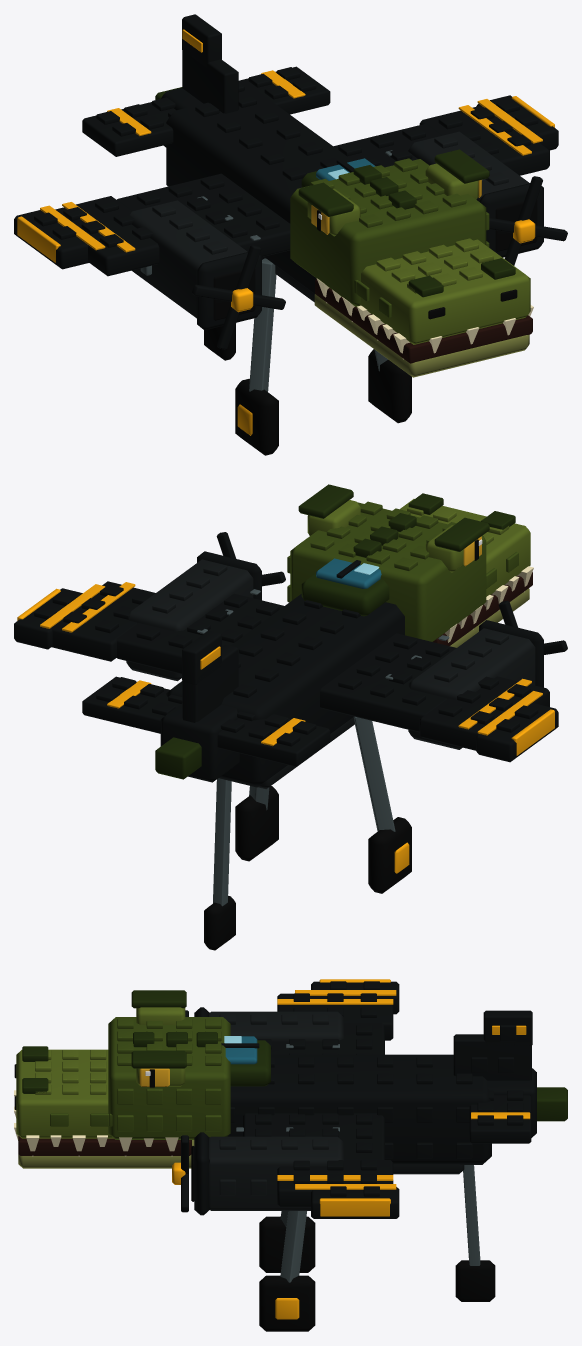
The model's file is Crocodilo.glb.
The picture shows the model from 3 angles, top to bottom: view 1: azimuth 30°, elevation 25°; view 2: azimuth 150°, elevation 25°; view 3: azimuth 270°, elevation 25°; orthographic projection. The views are drawn at different scales.
Visible parts, largest first — view 1: Crocodilo; view 2: Crocodilo; view 3: Crocodilo.
Boxes of the visible parts, bbox=[...] form: Crocodilo: bbox=[14, 14, 567, 455]; Crocodilo: bbox=[14, 484, 567, 950]; Crocodilo: bbox=[14, 979, 567, 1331].
Bounding box in the file's own units: 6.1 × 3.69 × 6.44.
Materials: 1 (1 with a texture image).
